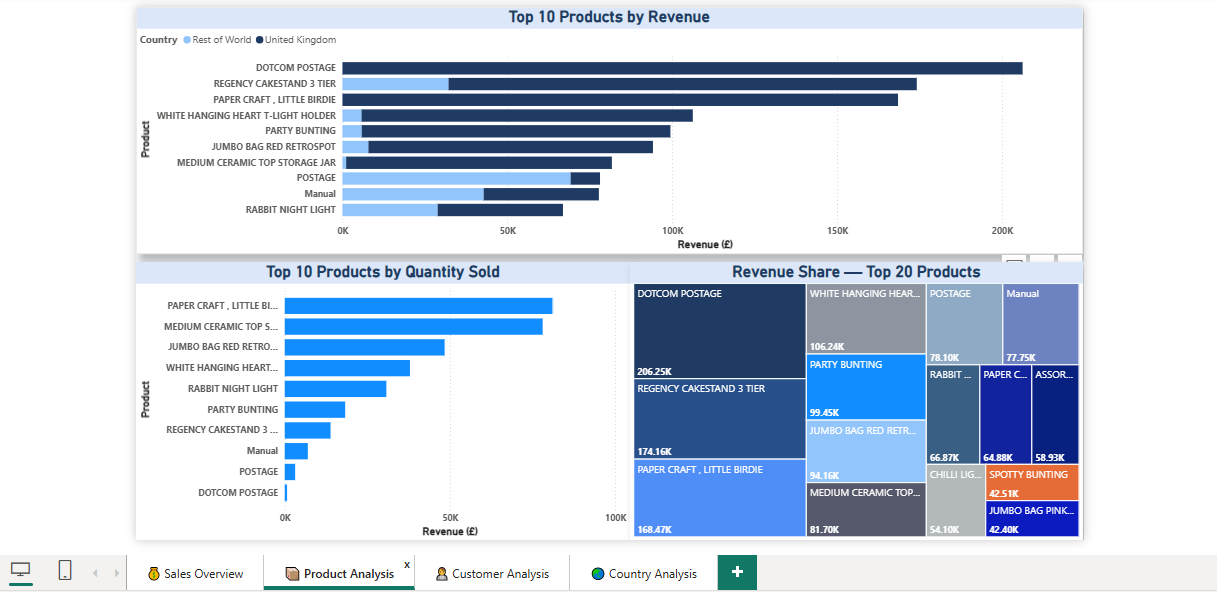

What the dashboard file says about the page in this screenshot:
{"tool":"powerbi","page":{"name":"📦 Product Analysis","canvas":[1280,720],"ordinal":1},"visuals":[{"type":"barChart","title":"Top 10 Products by Revenue","fields":{"Category":["sales dateset.description"],"Y":["Sum(sales dateset.total_price)"],"Series":["sales dateset.UK_vs_World"]},"box":[0,0,1279.4,333.8],"z":0},{"type":"clusteredBarChart","title":"Top 10 Products by Quantity Sold","fields":{"Category":["sales dateset.description"],"Y":["Sum(sales dateset.quantity)"]},"box":[0,344.1,667.6,376.5],"z":4000},{"type":"treemap","title":"Revenue Share — Top 20 Products","fields":{"Group":["sales dateset.description"],"Values":["Sum(sales dateset.total_price)"]},"box":[667.6,344.1,611.8,376.5],"z":5000}]}

Visuals, with their boxes on the page's 1280x720 design canvas (x1, y1, x2, y2). These are canvas units, not pixel positions in the 1217x592 screenshot, which may show the page scaled, cropped or inside an application window:
"Top 10 Products by Revenue" barChart: (0, 0, 1279, 334)
"Top 10 Products by Quantity Sold" clusteredBarChart: (0, 344, 668, 721)
"Revenue Share — Top 20 Products" treemap: (668, 344, 1279, 721)
